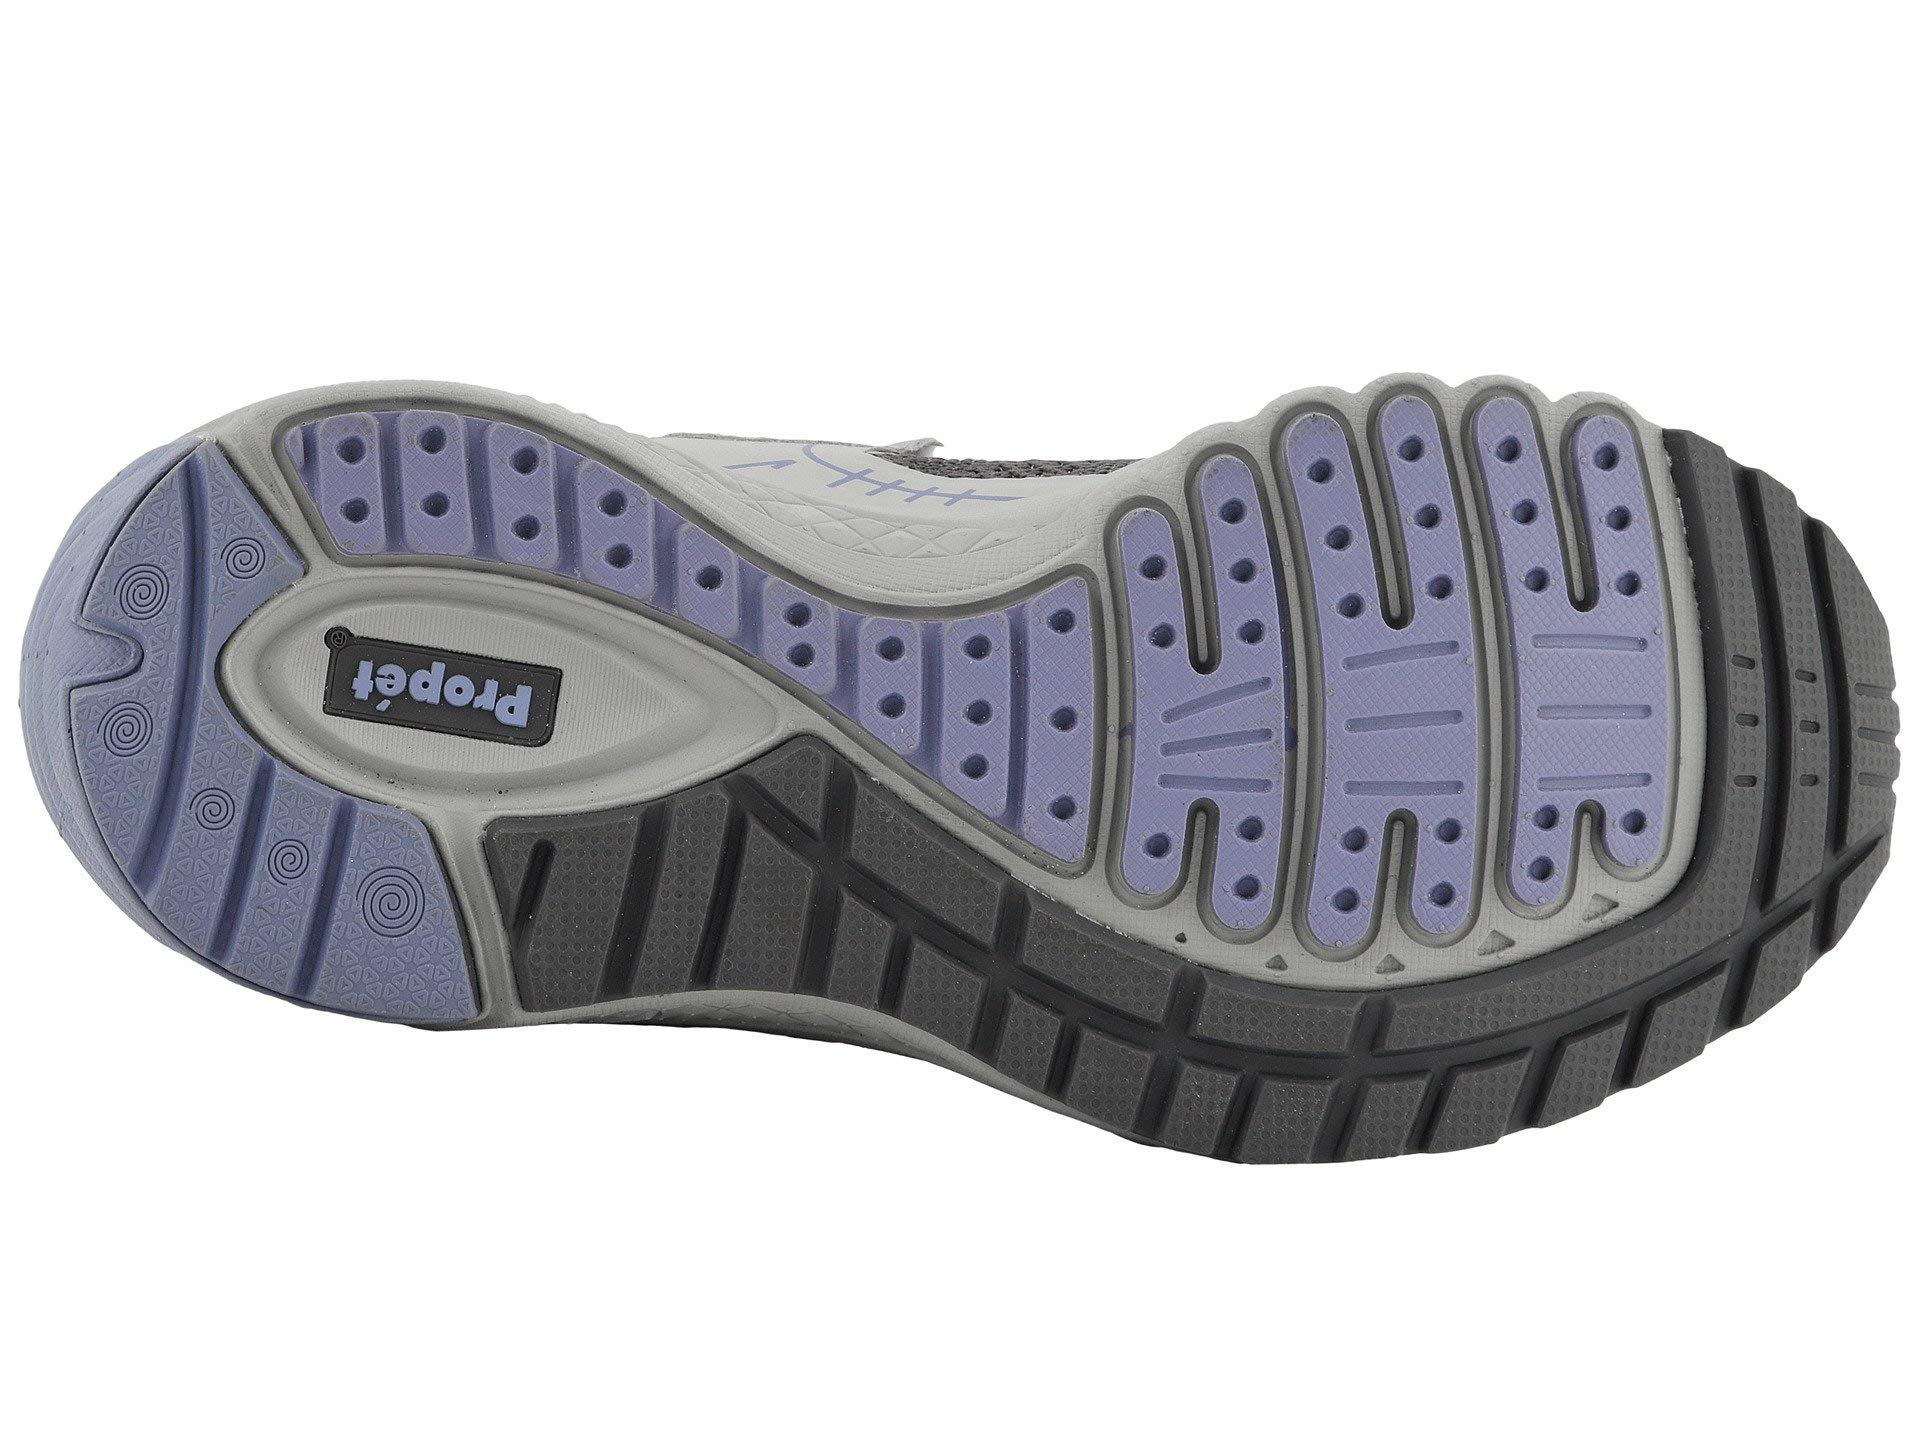circle: (1293, 634, 1680, 992), (735, 578, 1131, 921), (156, 768, 438, 1012), (321, 390, 567, 634), (304, 616, 597, 784), (97, 528, 293, 737)
line: (1293, 634, 1680, 992)
quad: (735, 578, 1131, 921), (156, 768, 438, 1012), (1101, 947, 1364, 1181), (321, 390, 567, 634), (304, 616, 597, 784)
text: (304, 616, 597, 784)
triangle: (1293, 634, 1680, 992)
